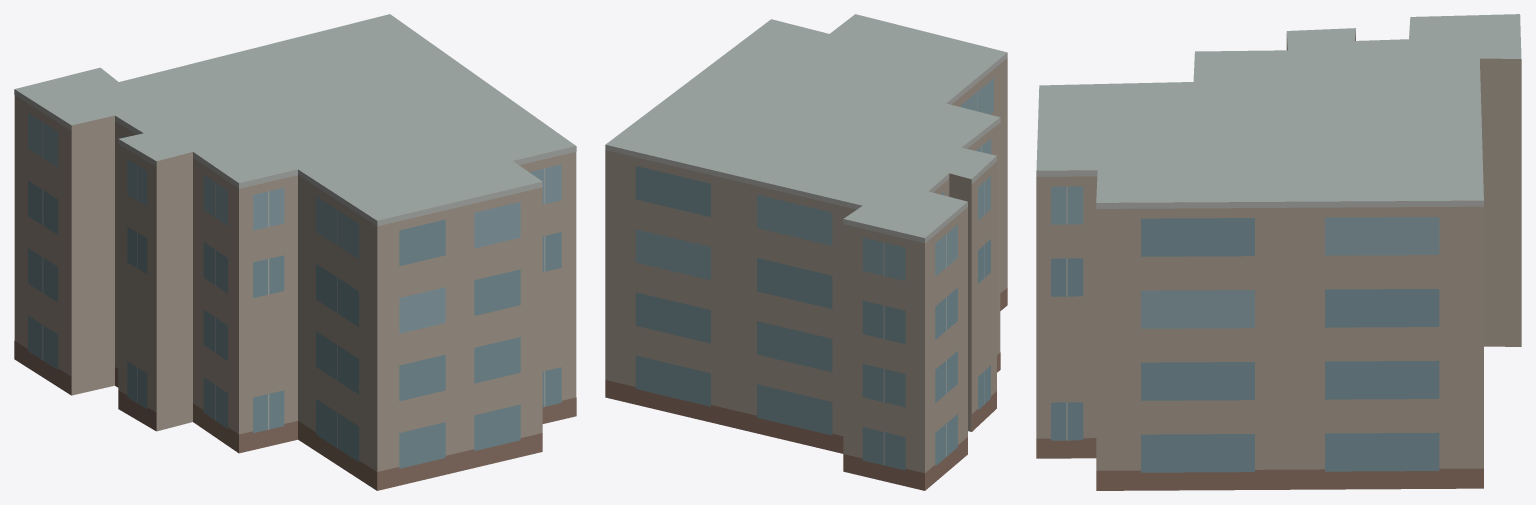
File: survey-upis-32963985.glb
3 views of the same model, side by side, from view 1: azimuth 30°, elevation 25°; view 2: azimuth 150°, elevation 25°; view 3: azimuth 270°, elevation 25° (orthographic). The views are drawn at different scales.
Parts seen in each view (by area): view 1: survey-upis-32963985.tmp; view 2: survey-upis-32963985.tmp; view 3: survey-upis-32963985.tmp.
Part boxes in pixels (left/top/right/bottom): survey-upis-32963985.tmp: left=14, top=14, right=576, bottom=490; survey-upis-32963985.tmp: left=605, top=14, right=1007, bottom=490; survey-upis-32963985.tmp: left=1036, top=14, right=1521, bottom=490.
Size of the model in its own units: 16.34 by 11.61 by 17.74.
